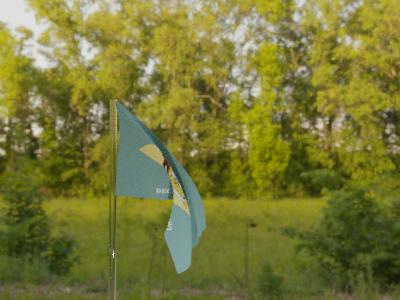Delaware flag: (113, 101, 206, 275)
